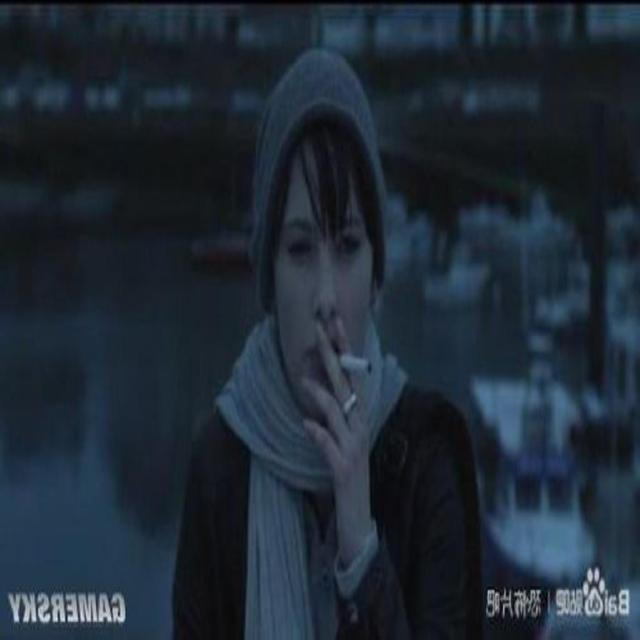smoking: (272, 72, 378, 424)
